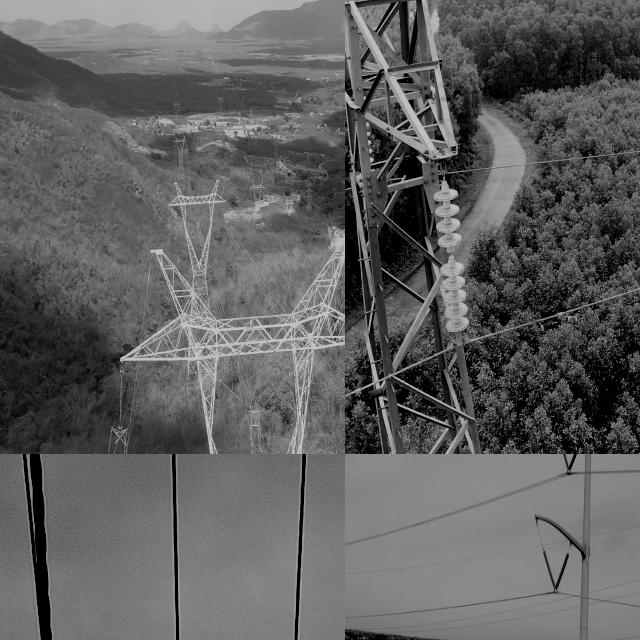杆塔: (345, 0, 493, 454), (120, 253, 345, 454), (164, 178, 228, 393), (247, 175, 268, 232), (172, 133, 188, 186)
正常电缆: (345, 276, 640, 411)
正常绝缘子: (424, 162, 472, 348), (536, 538, 561, 598), (549, 547, 575, 603), (561, 454, 582, 486), (559, 454, 574, 480)
绝缘子破损: (446, 249, 456, 263)
